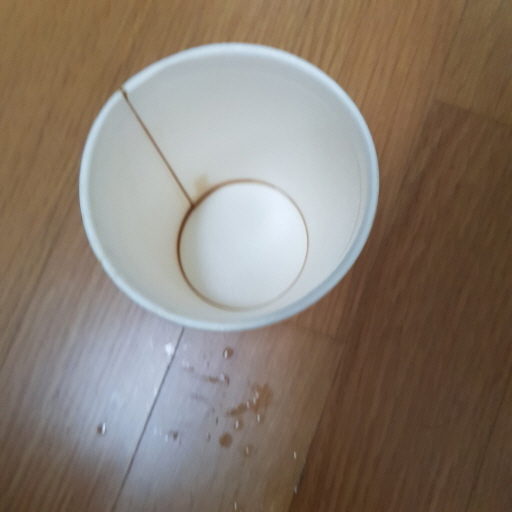Paper_1: (79, 43, 381, 329)
